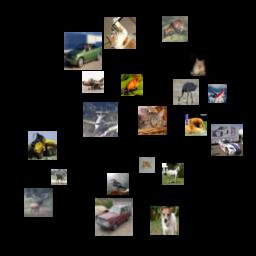airplane: (83, 102, 118, 137), (82, 71, 104, 93), (208, 84, 227, 103)
automobile: (95, 198, 133, 236), (64, 32, 102, 70), (211, 124, 243, 156)
bird: (173, 79, 199, 105), (107, 173, 129, 195)
cat: (104, 17, 136, 49), (138, 106, 167, 135), (190, 54, 212, 76), (139, 157, 155, 173)
deer: (24, 188, 53, 217), (162, 16, 188, 42)
dog: (150, 206, 179, 235), (185, 114, 207, 136)
frog: (121, 74, 143, 96)
truck: (28, 131, 57, 160)
